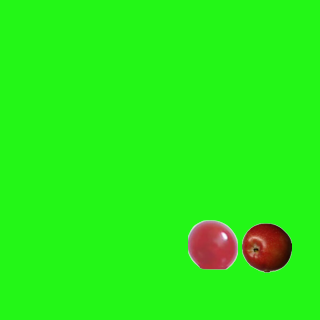Apple Braeburn: (241, 222, 291, 272)
Redcurrant: (187, 219, 237, 269)
